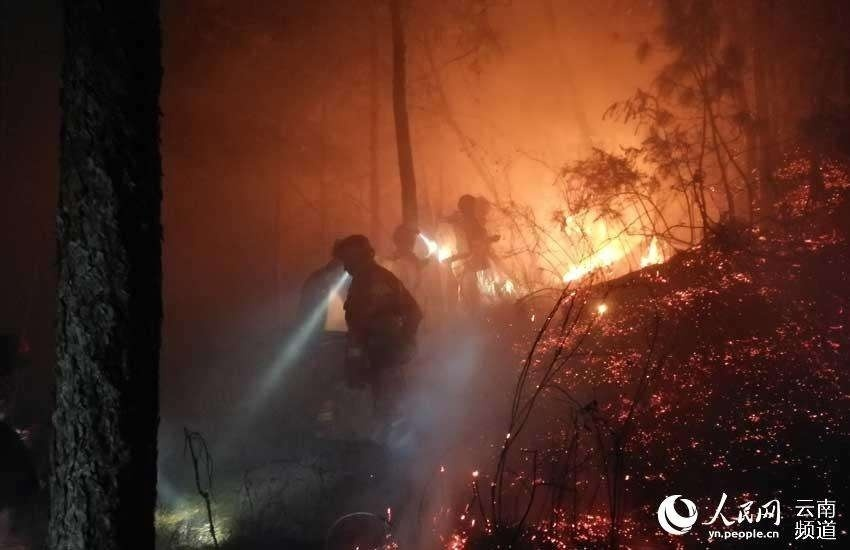fire: (547, 203, 671, 288)
